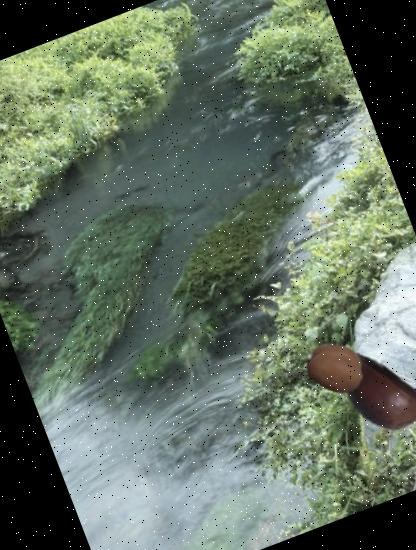Apricot: (298, 331, 372, 406)
Chestnut: (319, 335, 416, 458)
